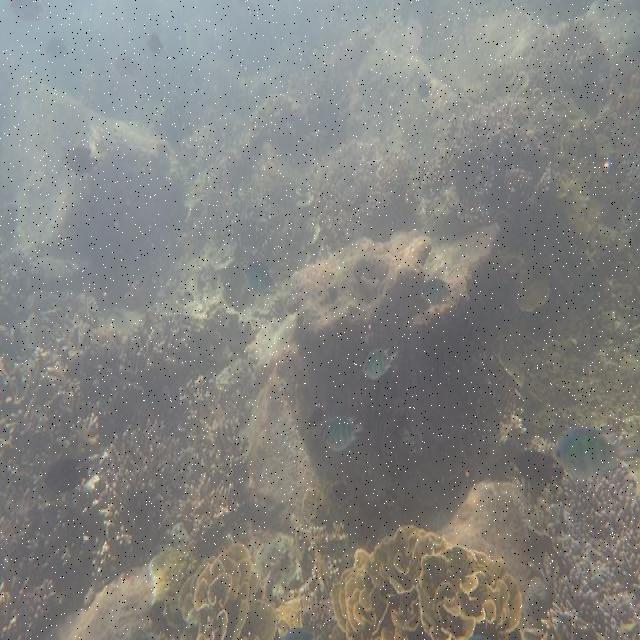fish: (552, 427, 638, 479), (323, 415, 368, 451), (364, 346, 398, 379)
reefs: (332, 524, 522, 638), (177, 543, 277, 638)
